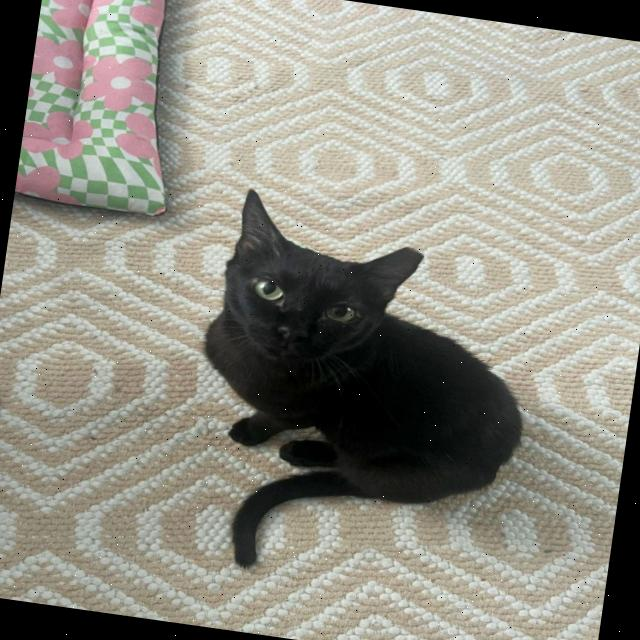bombay_cat: (195, 184, 437, 396)
